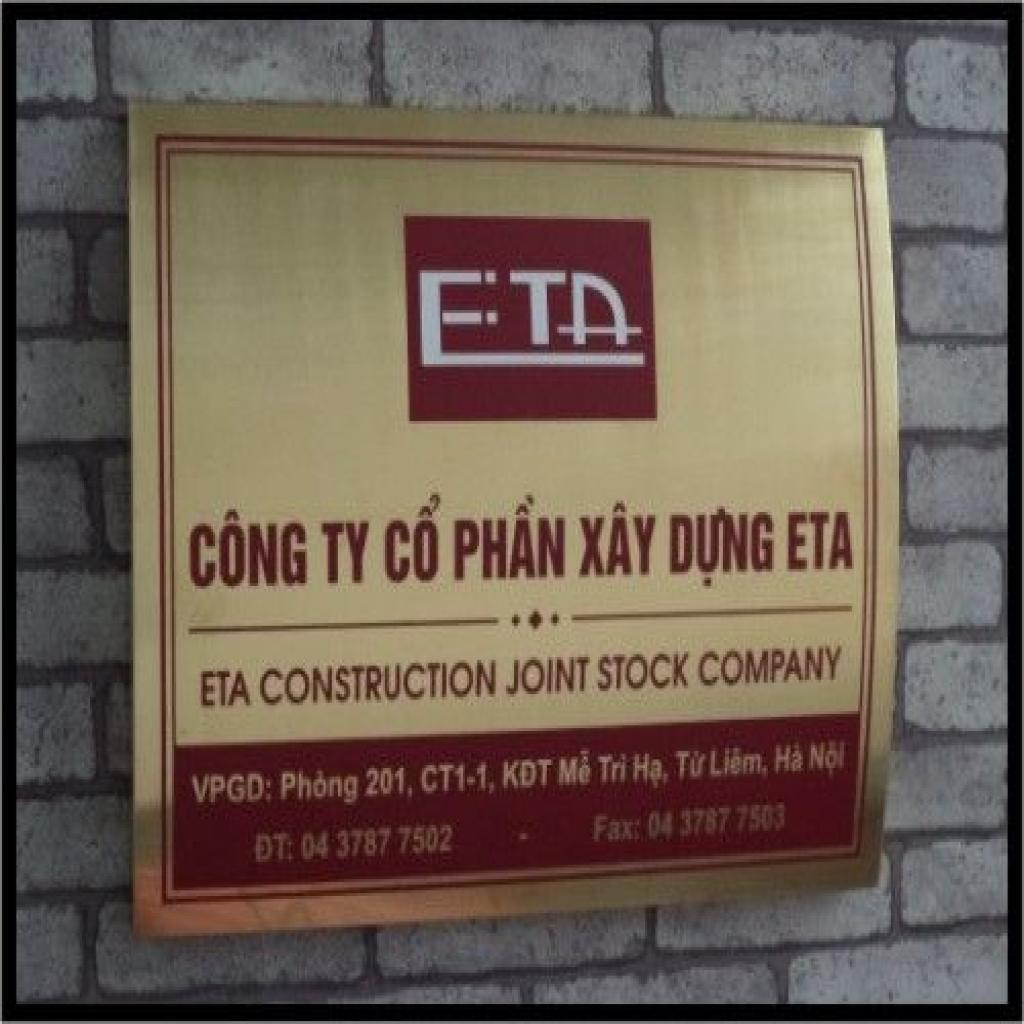text: (414, 264, 649, 376), (258, 654, 500, 711), (186, 504, 314, 594), (453, 489, 569, 586), (666, 500, 778, 592), (696, 640, 848, 694), (576, 498, 662, 583), (301, 822, 457, 865), (383, 489, 446, 592), (784, 506, 858, 580), (596, 648, 692, 697), (504, 652, 594, 702), (317, 514, 373, 592), (188, 768, 276, 811), (280, 762, 360, 808), (418, 757, 498, 802), (709, 742, 770, 785), (199, 666, 256, 711), (362, 762, 416, 805), (502, 754, 555, 796), (592, 810, 645, 848), (631, 748, 672, 794), (809, 737, 850, 782), (252, 828, 297, 868), (557, 748, 596, 791), (674, 742, 708, 788), (598, 748, 631, 791), (774, 740, 807, 780)
